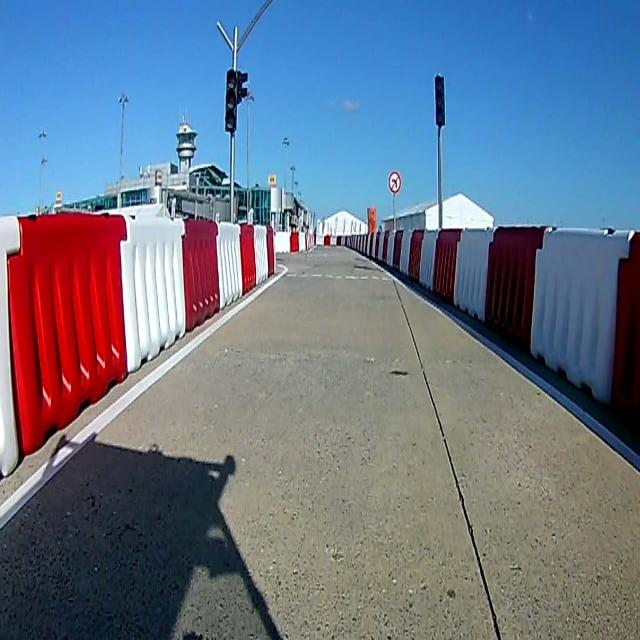soladonulmez: (387, 171, 401, 193)
